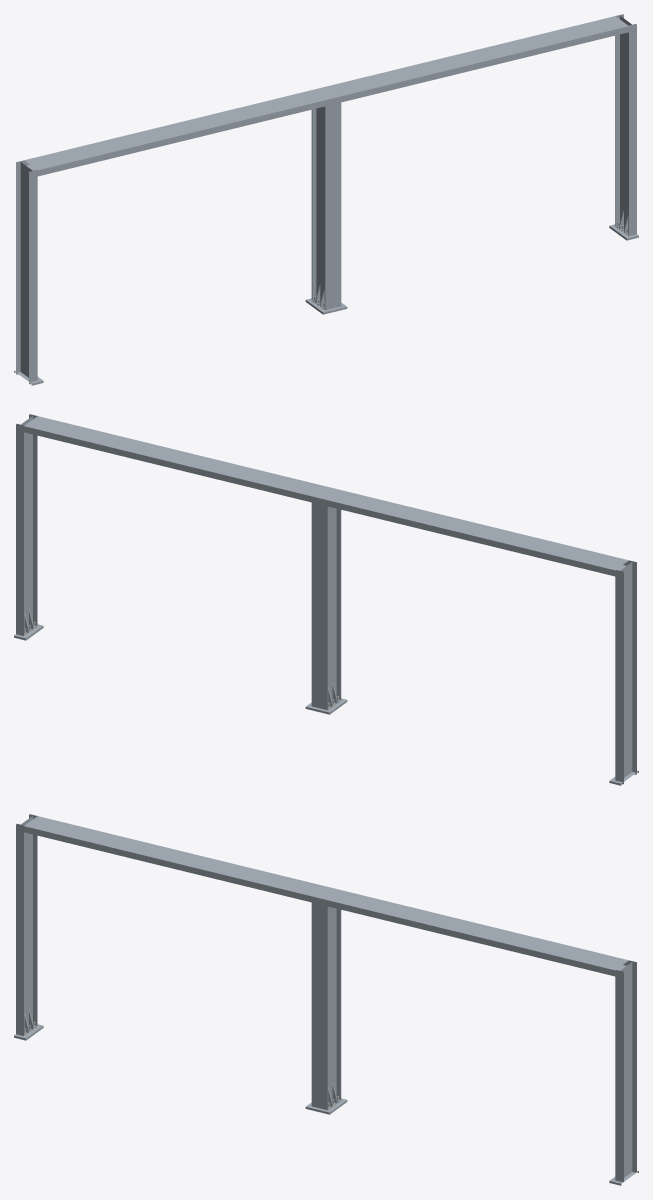
The model's file is SM06_Building_Structure_Wall_Bottom_01_Default.fbx.
3 views of the same model, one above another, from view 1: azimuth 30°, elevation 25°; view 2: azimuth 150°, elevation 25°; view 3: azimuth 330°, elevation 25° (orthographic).
Parts seen in each view (by area): view 1: SM06_Building_Structure_Wall_Bottom_01_Default; view 2: SM06_Building_Structure_Wall_Bottom_01_Default; view 3: SM06_Building_Structure_Wall_Bottom_01_Default.
Part boxes in pixels (box(x1,y1,x2,y2)): SM06_Building_Structure_Wall_Bottom_01_Default: box(14, 14, 638, 385); SM06_Building_Structure_Wall_Bottom_01_Default: box(14, 414, 638, 785); SM06_Building_Structure_Wall_Bottom_01_Default: box(14, 814, 638, 1185).
Bounding box in the file's own units: 15 × 5.01 × 0.7496.
